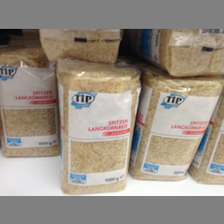rice: (57, 58, 143, 194), (130, 68, 222, 181), (1, 48, 60, 156), (130, 30, 223, 78), (39, 30, 122, 62)
